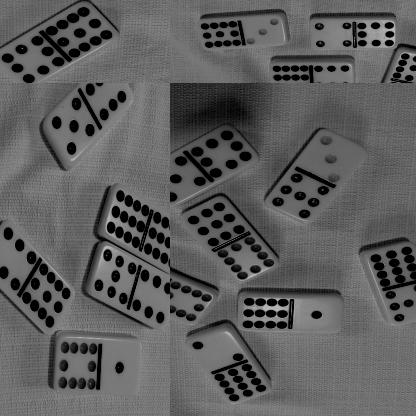pip-1: (100, 339, 141, 397), (290, 294, 343, 334)
pip-10: (216, 238, 280, 284), (53, 336, 99, 394), (170, 282, 214, 325)
pip-11: (46, 0, 118, 57), (22, 263, 73, 336), (198, 19, 239, 51), (391, 50, 416, 83)
pip-12: (107, 184, 148, 250), (212, 363, 270, 405), (365, 243, 416, 287), (238, 295, 291, 332), (143, 214, 170, 271), (269, 63, 310, 83)
pip-2: (185, 330, 243, 370)
pip-3: (303, 130, 367, 182), (240, 15, 286, 46)
pip-4: (309, 18, 353, 51)
pip-5: (44, 97, 95, 162), (170, 156, 204, 205)
pip-6: (0, 219, 35, 292), (132, 270, 170, 331), (84, 83, 133, 122), (311, 61, 352, 83)
pip-7: (265, 174, 329, 224), (89, 248, 135, 305), (383, 285, 416, 326)
pip-8: (190, 125, 258, 178), (0, 37, 63, 83), (354, 19, 396, 50)
pip-9: (180, 196, 244, 248)
